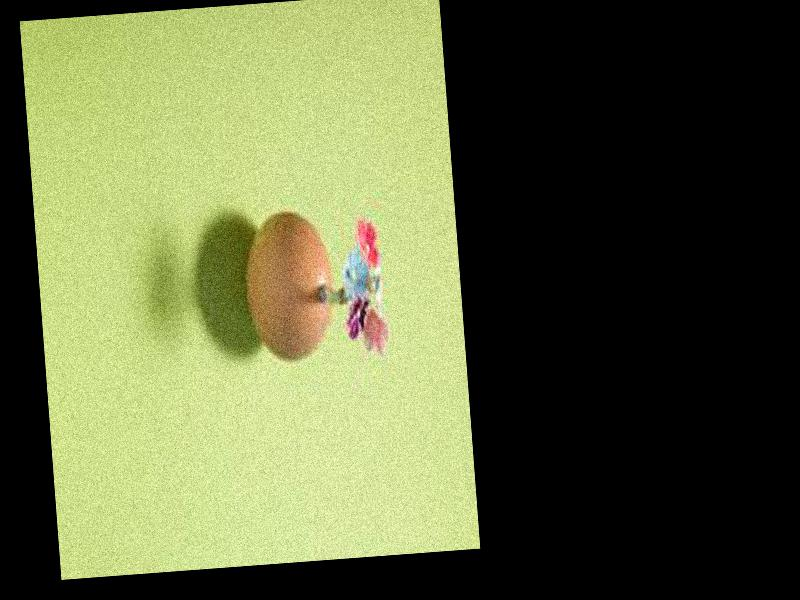Eggs: (240, 210, 336, 363)
